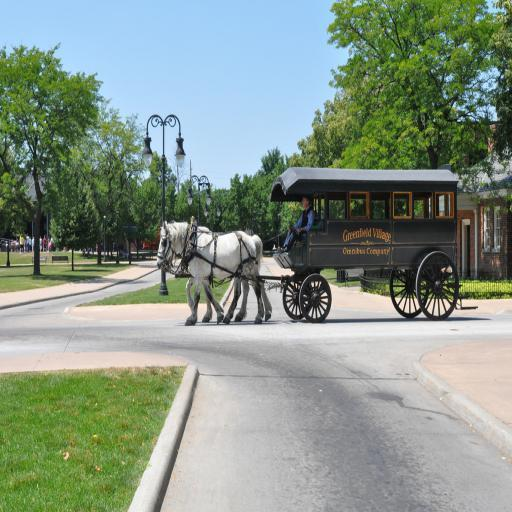horse: (154, 216, 264, 323)
